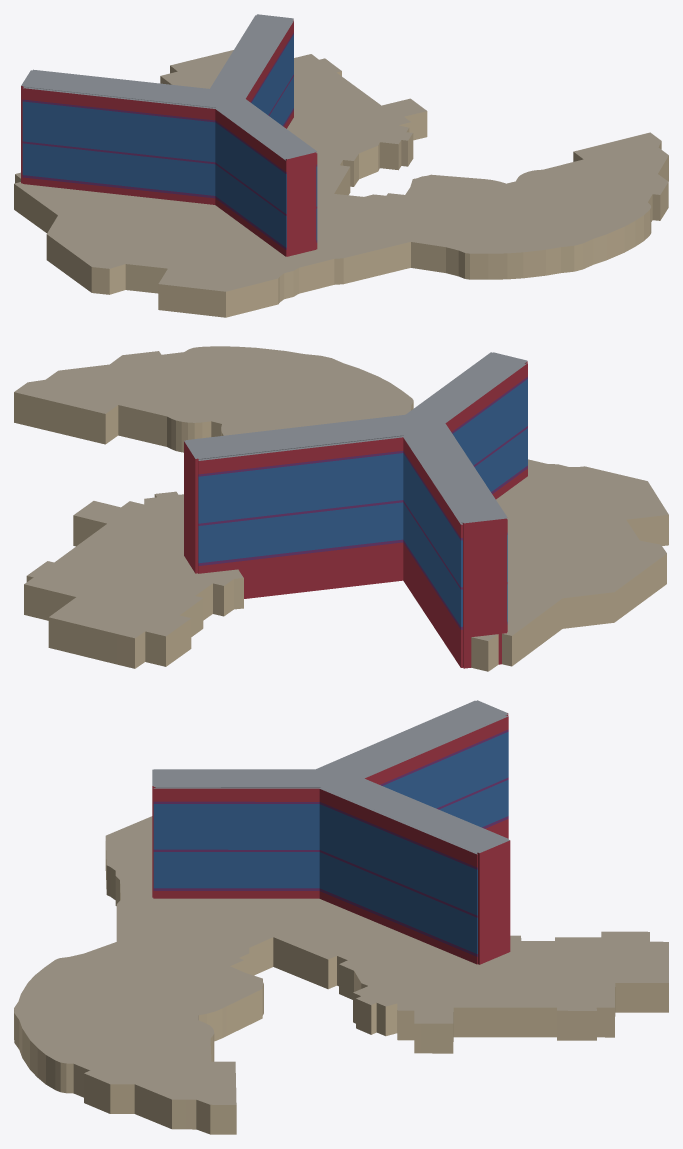
The model's file is rio_all_suite_hotel_an_w116876230.glb.
3 renders of one model, top to bottom at view 1: azimuth 30°, elevation 25°; view 2: azimuth 150°, elevation 25°; view 3: azimuth 270°, elevation 25°, orthographic. The views are drawn at different scales.
Parts seen in each view (by area): view 1: Tower_w116876230; view 2: Tower_w116876230; view 3: Tower_w116876230.
Part boxes in pixels (bbox=[...]): Tower_w116876230: bbox=[14, 14, 668, 317]; Tower_w116876230: bbox=[14, 346, 668, 671]; Tower_w116876230: bbox=[14, 700, 668, 1134].
Size of the model in its own units: 359 by 76 by 319.
